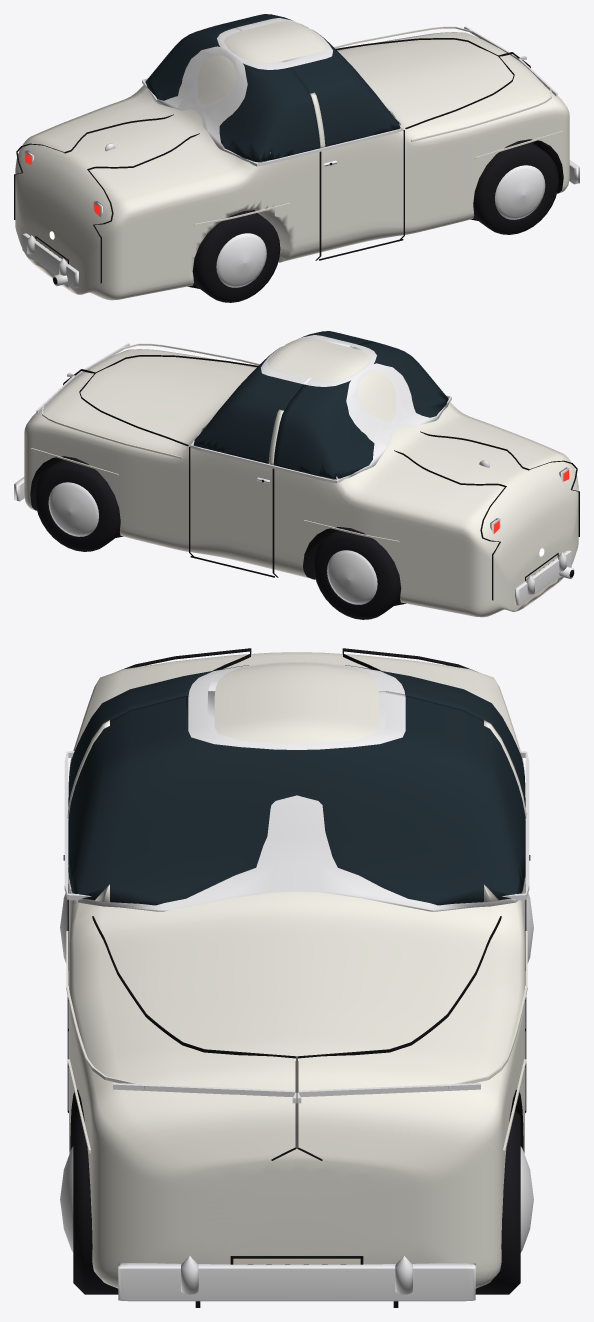
Rendered from t1_maurice.glb.
3 renders of one model, top to bottom at view 1: azimuth 30°, elevation 25°; view 2: azimuth 150°, elevation 25°; view 3: azimuth 270°, elevation 25°, orthographic. The views are drawn at different scales.
Parts seen in each view (by area): view 1: paint_00, glass_01, glass_00, tyre_03, tyre_01, chrome_05, chrome_24, chrome_26, chrome_02, chrome_04, chrome_38, trim_04 (+1 smaller); view 2: paint_00, glass_01, glass_00, tyre_02, tyre_00, chrome_05, chrome_23, chrome_25, trim_04, chrome_02, chrome_04, chrome_37 (+1 smaller); view 3: paint_00, glass_00, chrome_04, chrome_01, glass_01, tyre_02, tyre_03, chrome_05, chrome_35, chrome_36, chrome_25, chrome_26 (+5 smaller).
Boxes of the visible parts, <box> form: paint_00: <box>15,21,569,300</box>; glass_01: <box>145,24,320,161</box>; glass_00: <box>222,14,399,146</box>; tyre_03: <box>473,139,558,234</box>; tyre_01: <box>192,210,280,302</box>; chrome_05: <box>144,28,291,163</box>; chrome_24: <box>216,233,266,287</box>; chrome_26: <box>495,165,545,219</box>; chrome_02: <box>22,233,78,288</box>; chrome_04: <box>235,18,400,128</box>; chrome_38: <box>223,124,403,166</box>; trim_04: <box>533,140,563,193</box>; paint_00: <box>24,338,578,617</box>; glass_01: <box>273,341,448,478</box>; glass_00: <box>194,331,371,463</box>; tyre_02: <box>35,456,120,551</box>; tyre_00: <box>313,527,401,619</box>; chrome_05: <box>303,344,449,480</box>; chrome_23: <box>327,550,377,604</box>; chrome_25: <box>48,482,98,536</box>; trim_04: <box>30,457,338,579</box>; chrome_02: <box>515,550,571,605</box>; chrome_04: <box>193,335,355,445</box>; chrome_37: <box>190,441,370,483</box>; paint_00: <box>69,652,524,1288</box>; glass_00: <box>68,696,525,905</box>; chrome_04: <box>68,691,525,911</box>; chrome_01: <box>118,1263,475,1301</box>; glass_01: <box>68,665,525,806</box>; tyre_02: <box>475,1107,520,1294</box>; tyre_03: <box>73,1107,118,1294</box>; chrome_05: <box>188,662,404,697</box>; chrome_35: <box>297,1083,480,1103</box>; chrome_36: <box>113,1083,296,1103</box>; chrome_25: <box>520,1146,533,1252</box>; chrome_26: <box>60,1146,73,1252</box>.
Bounding box in the file's own units: 10.47 × 4.17 × 4.28.
